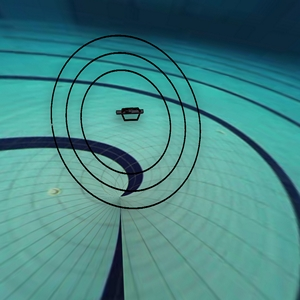circle: (44, 22, 214, 229)
submarine: (109, 100, 149, 124)
